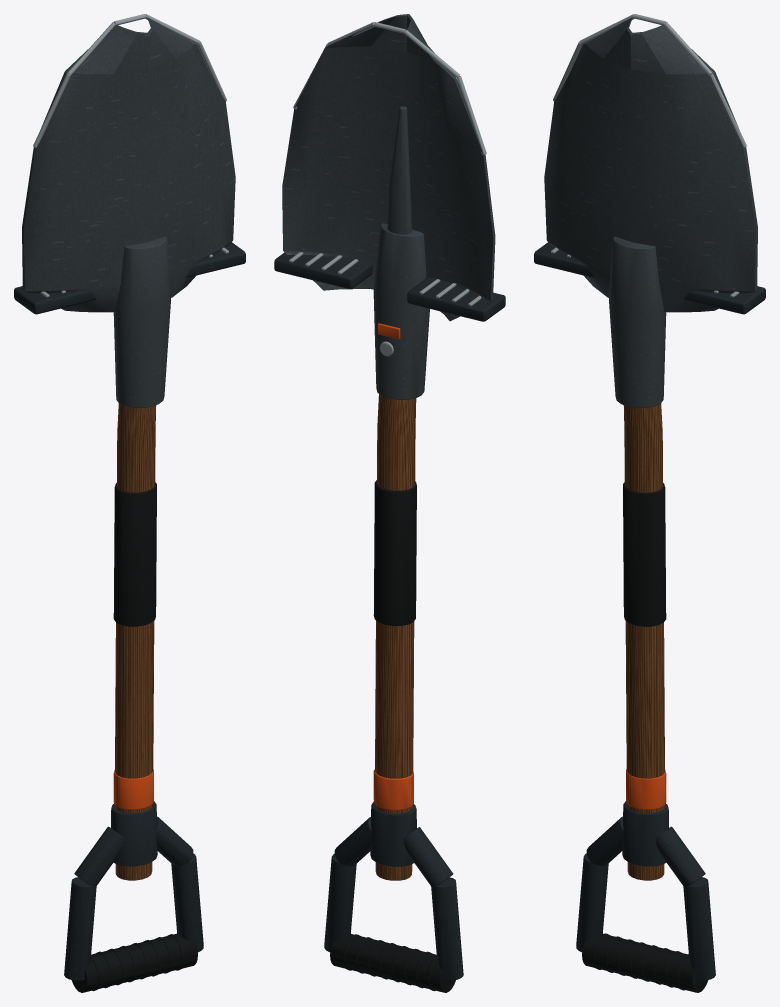
The model's file is SM_Shovel.fbx.
The picture shows the model from 3 angles, left to right: view 1: azimuth 30°, elevation 25°; view 2: azimuth 150°, elevation 25°; view 3: azimuth 330°, elevation 25°; orthographic projection.
Visible parts, largest first — view 1: SM_Shovel; view 2: SM_Shovel; view 3: SM_Shovel.
Boxes of the visible parts, x1,y1,x2,y2 form: SM_Shovel: (14,14,245,992); SM_Shovel: (274,14,505,992); SM_Shovel: (534,14,765,992).
Bounding box in the file's own units: 0.248 × 1.07 × 0.0705.
